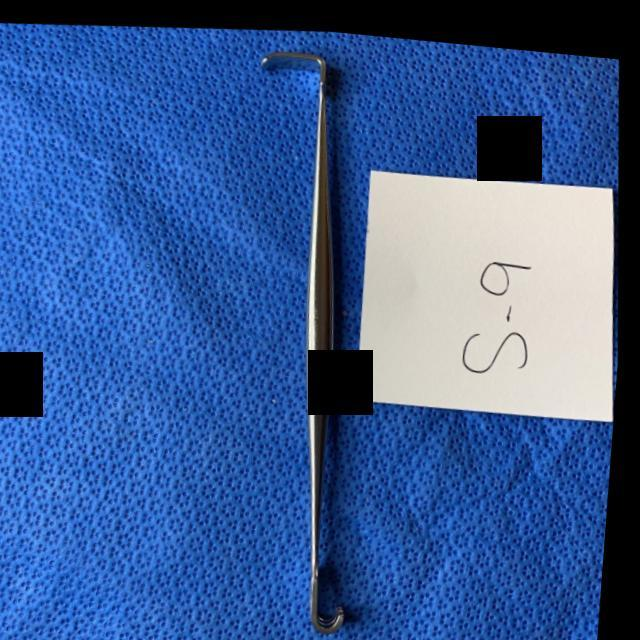Senn Retractor: (220, 20, 410, 640)
